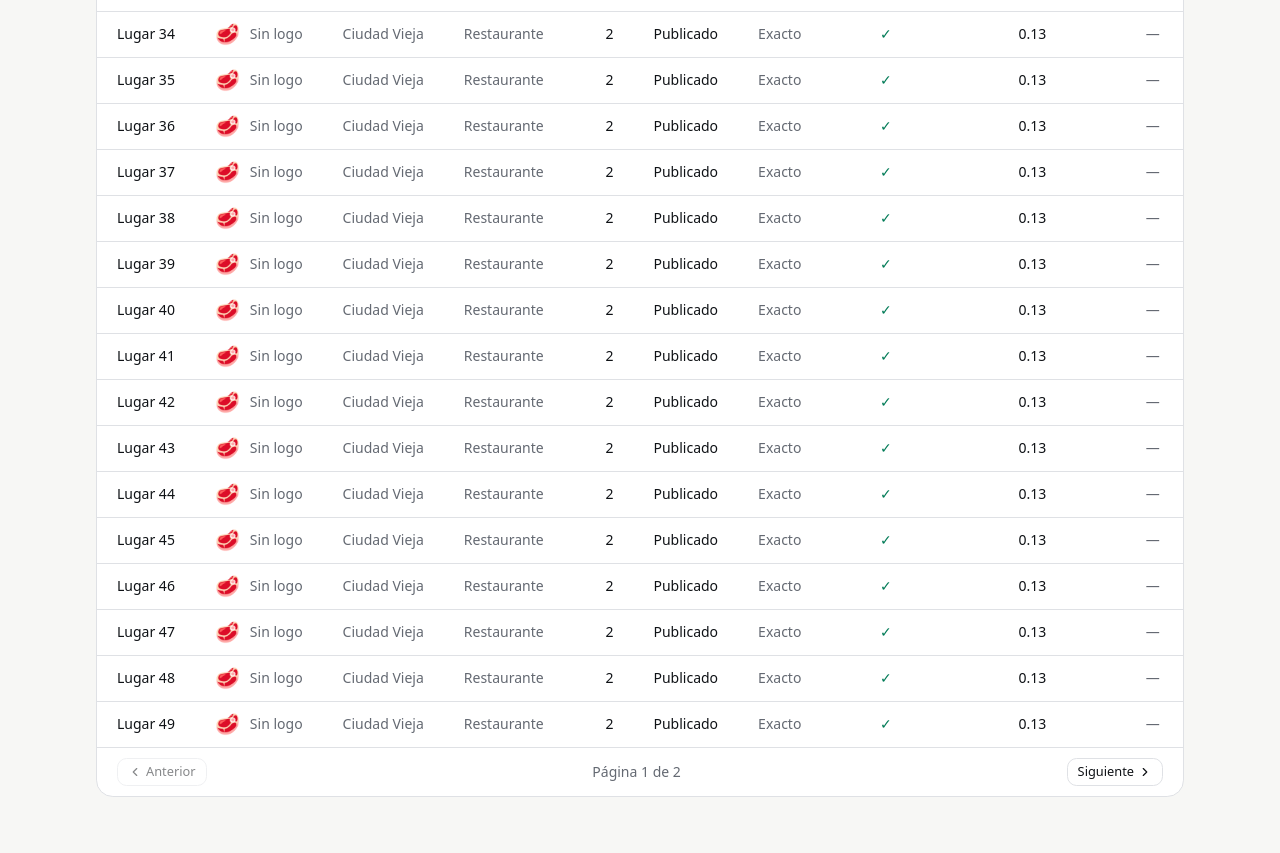
SavedPlacesPage › pagina en el servidor
The image size is (1280, 853).
(page scrolled)
Expected: the text "Página 1 de 2" is shown, [592,762,681,782]
Expected: the button "Anterior" is disabled, [117,758,206,786]
Click the button "Siguiente" at x=1115, y=772, box [1067,758,1163,786]
(page scrolled)
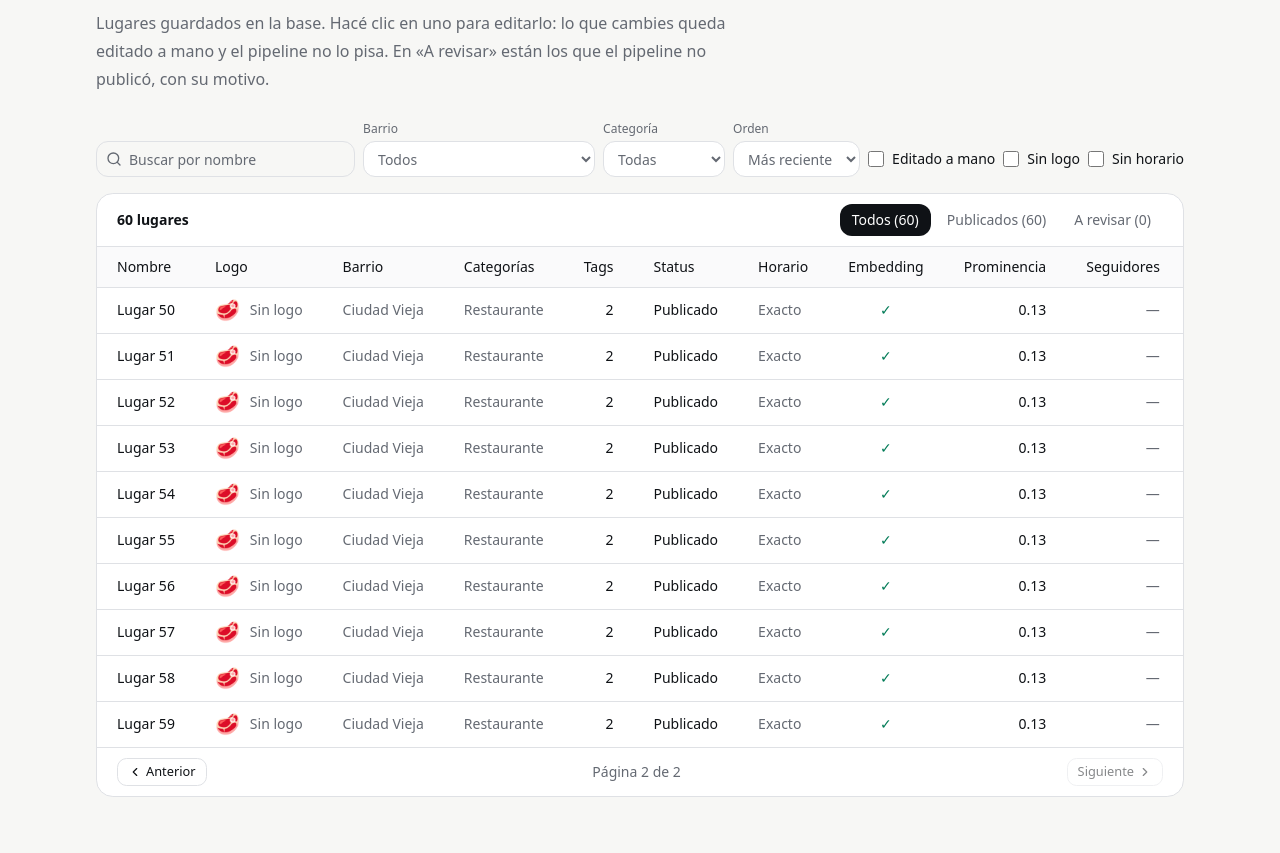
Expected: the text "Página 2 de 2" is shown, [592,762,681,782]
Expected: the number of rows is 11
Expected: the button "Siguiente" is disabled, [1067,758,1163,786]
